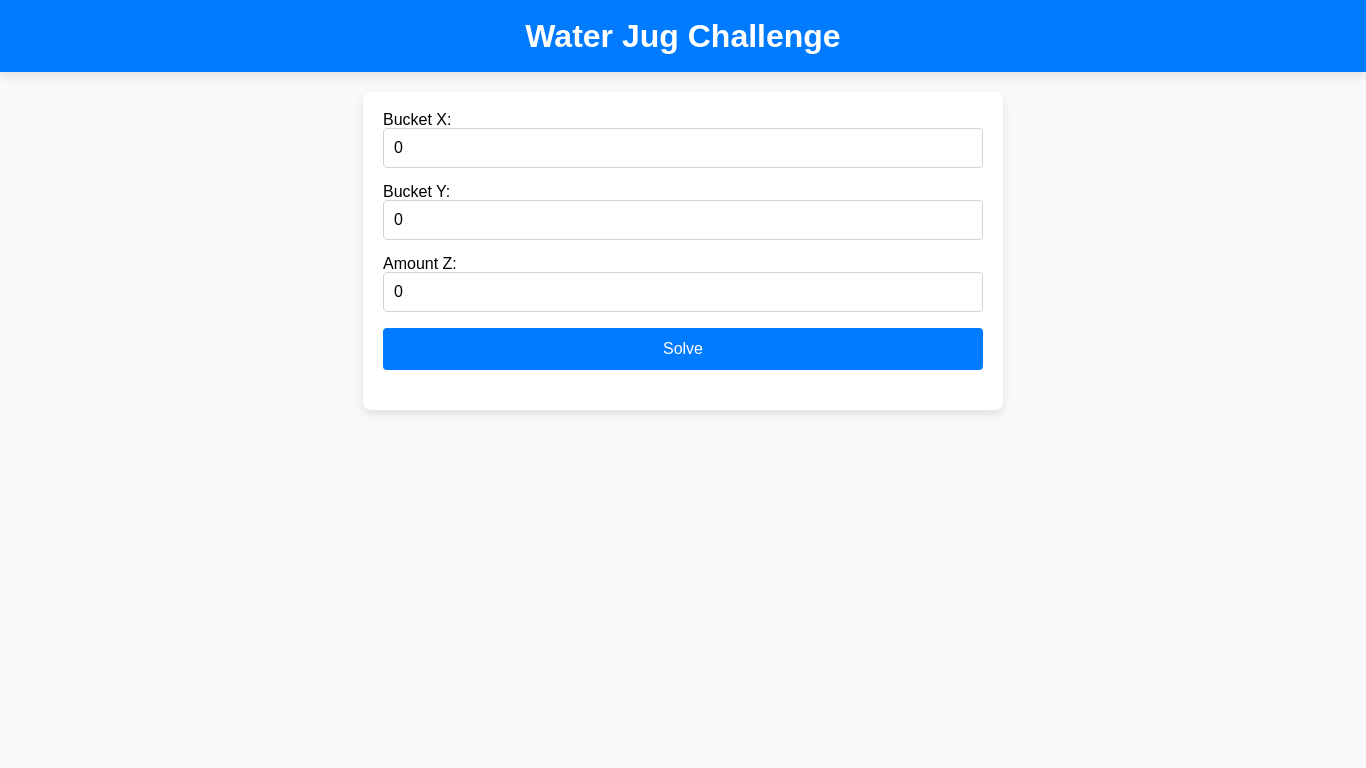
it: Water Jug Challenge › solves case with Bucket X: 2, Bucket Y: 10, Amount wanted Z: 4
Replace the text in the number field labelled "Bucket X:" with "2": (683, 148) [383,128,983,168]
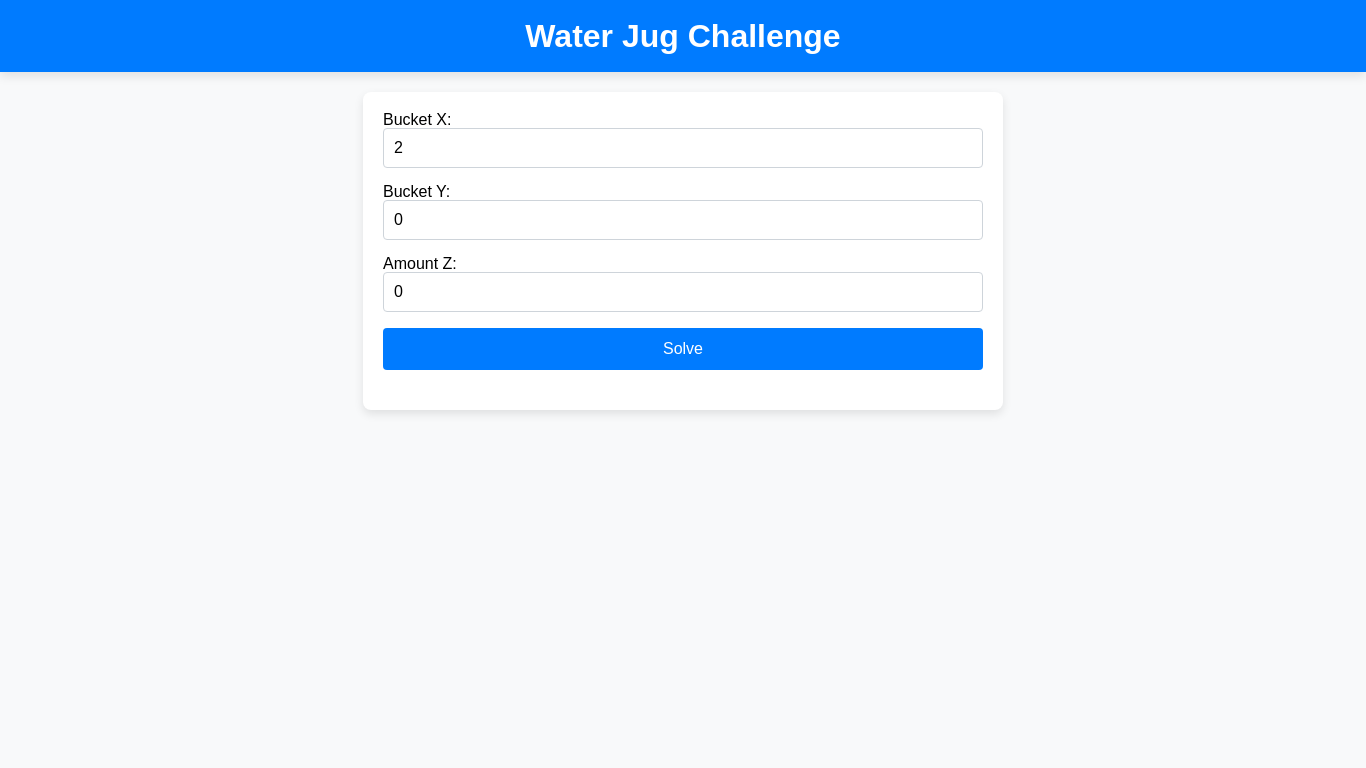
Replace the text in the number field labelled "Bucket Y:" with "10": (683, 220) [383,200,983,240]
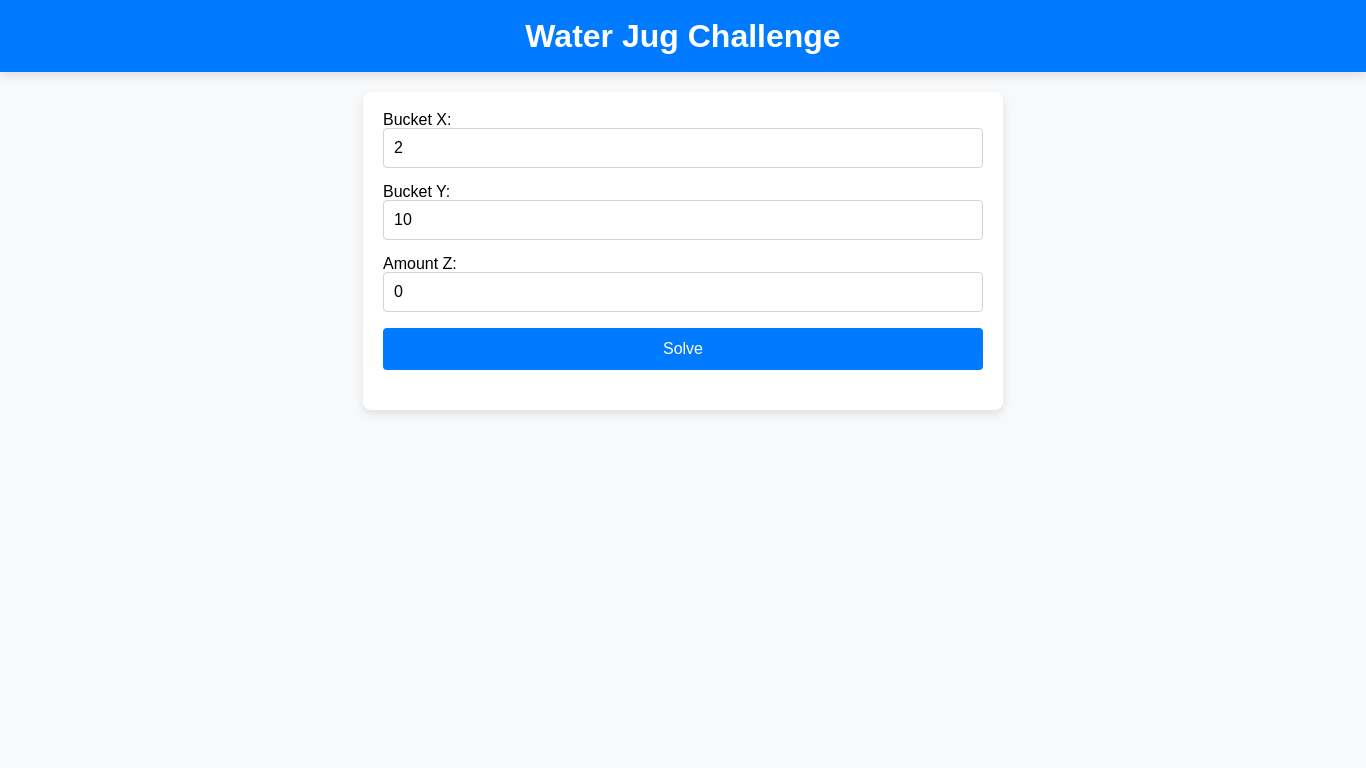
Replace the text in the number field labelled "Amount Z:" with "4": (683, 292) [383,272,983,312]
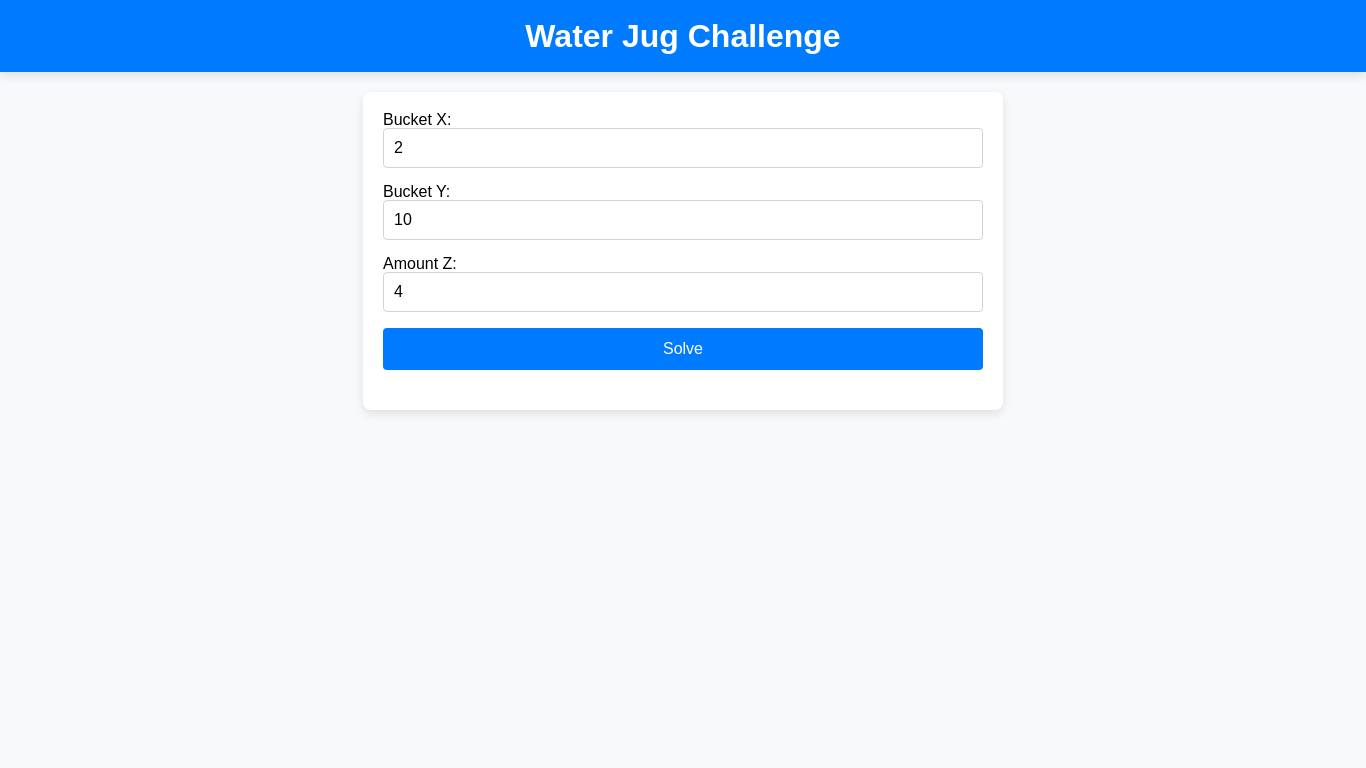
Click the button "Solve": (683, 349) [383,328,983,370]
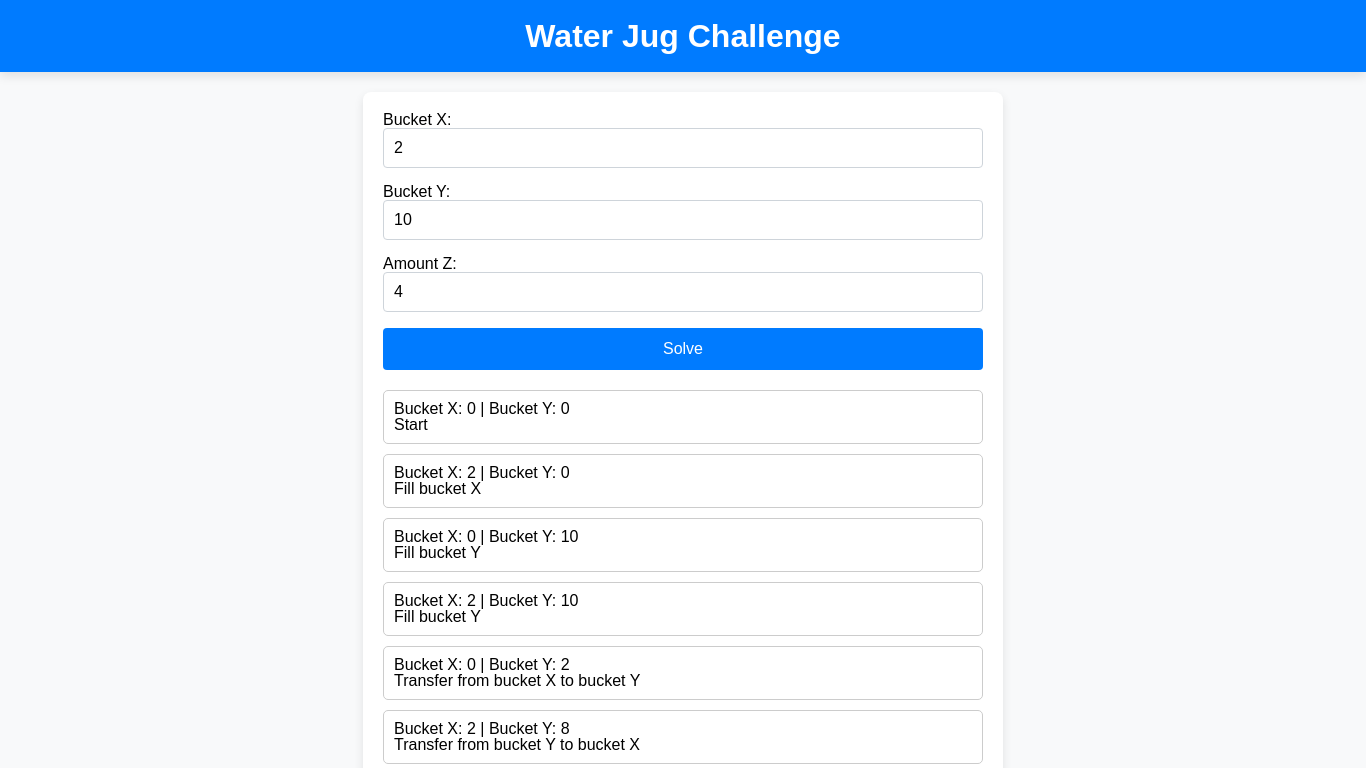
Expected: the text "Fill bucket X" is shown, [394,480,481,497]
Expected: the text "Transfer from bucket X to bucket Y" is shown, [394,672,640,689]
